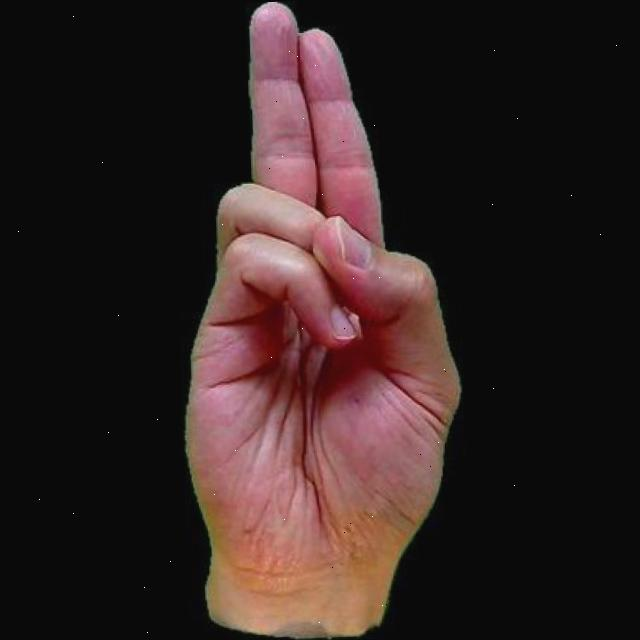u: (161, 0, 470, 640)
